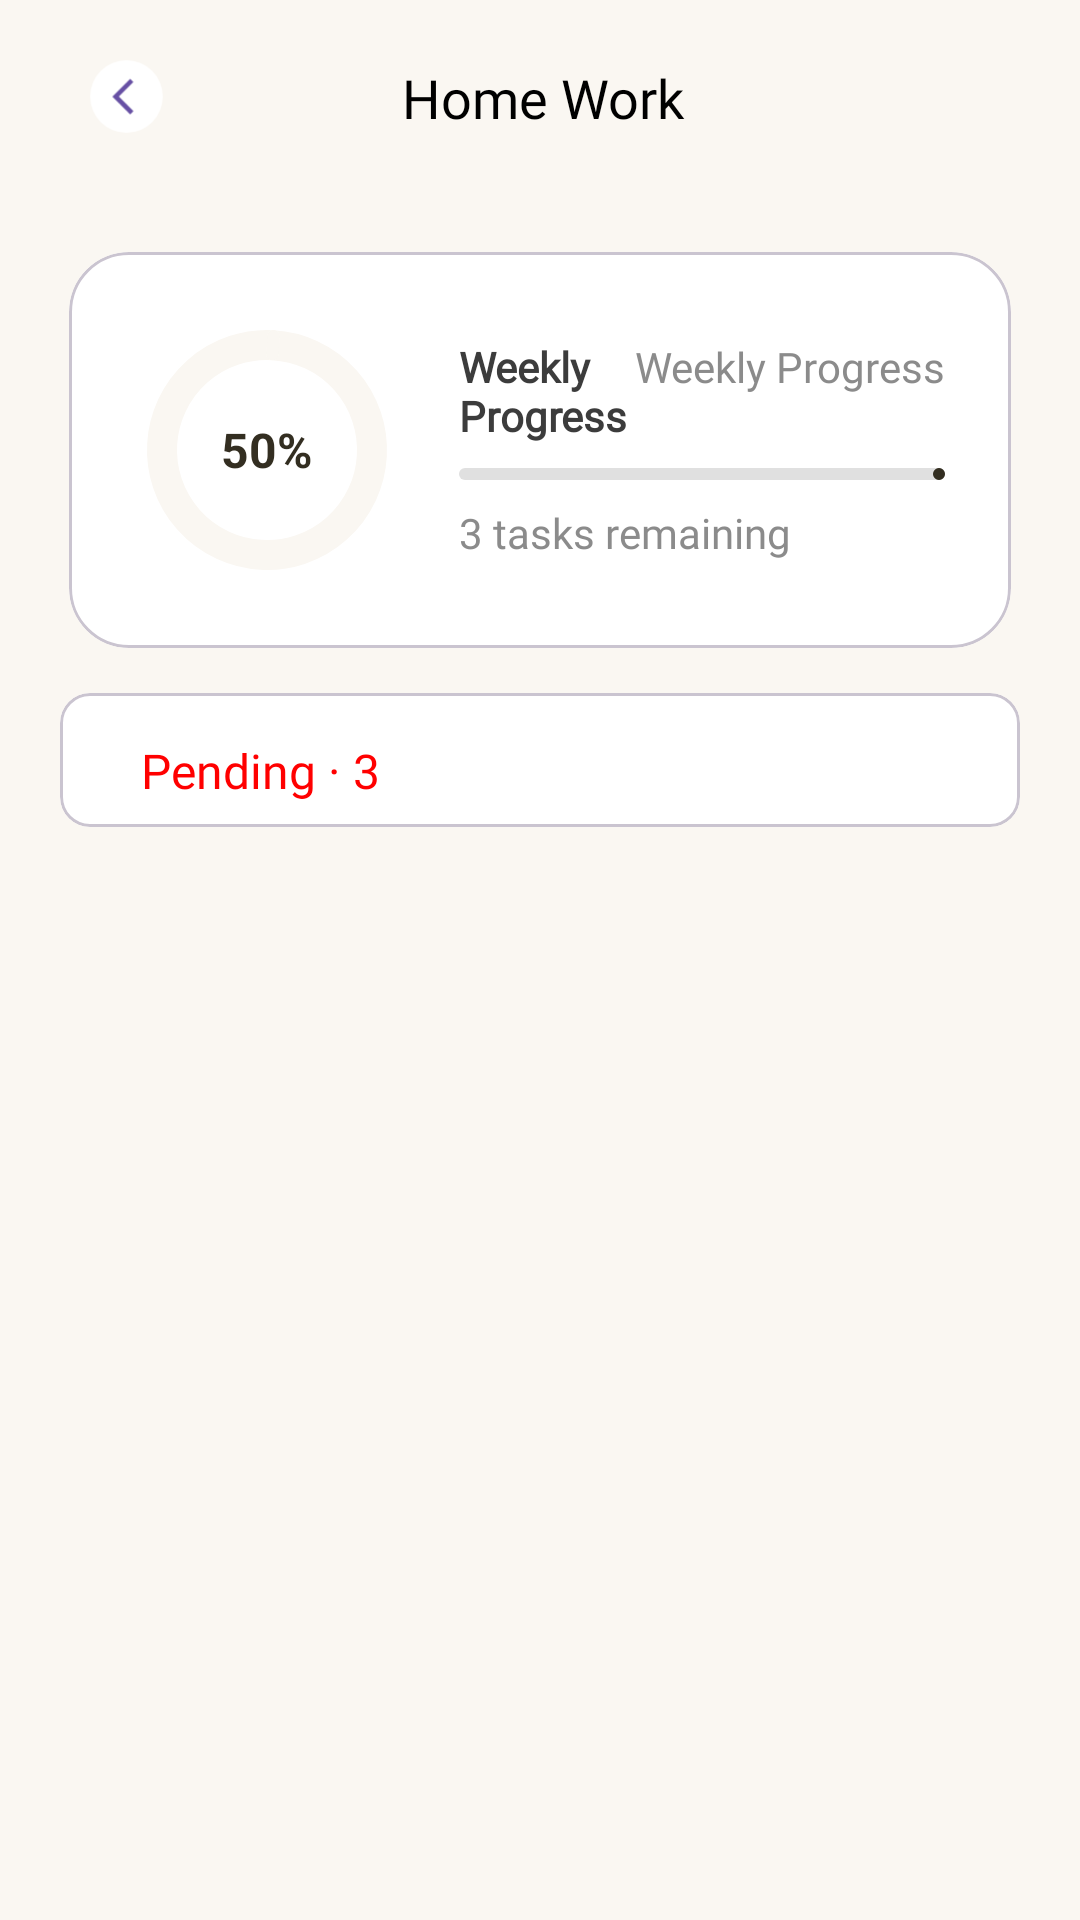

Named icons in this screenshot (1080w x 1920h) and their centers, [x,y]:
back: [126,96]
